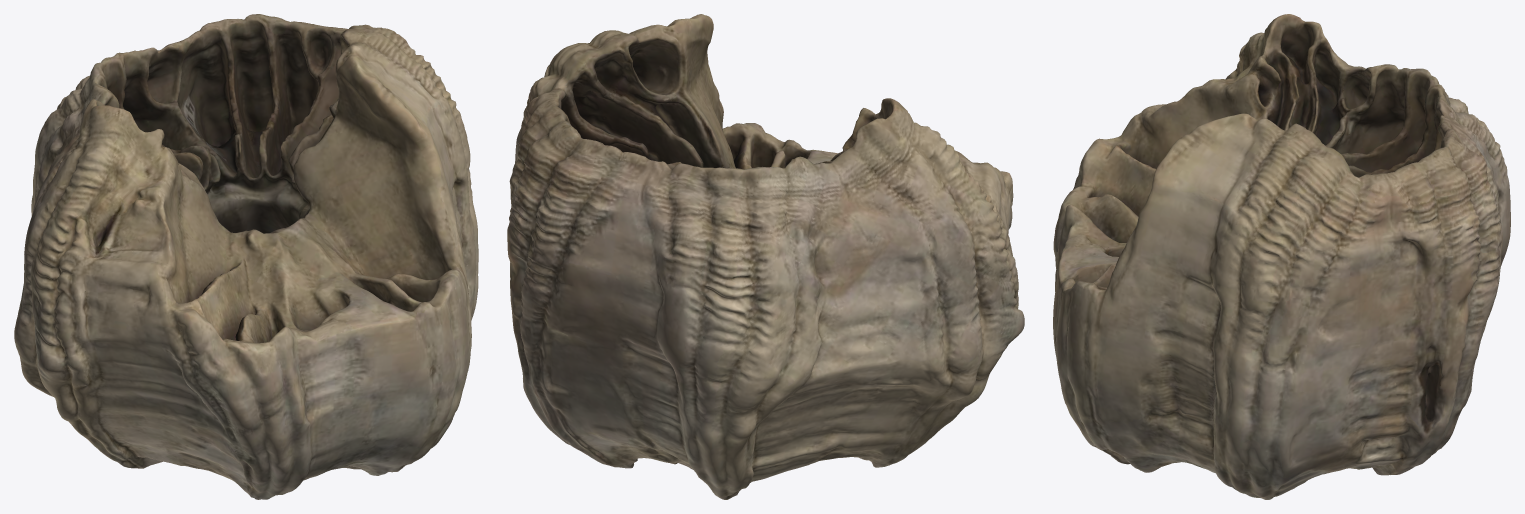
3 views of the same model, side by side, from view 1: azimuth 30°, elevation 25°; view 2: azimuth 150°, elevation 25°; view 3: azimuth 270°, elevation 25° (orthographic). The views are drawn at different scales.
Visible parts, largest first — view 1: Coronula_diadema-unwrapped-webmulti; view 2: Coronula_diadema-unwrapped-webmulti; view 3: Coronula_diadema-unwrapped-webmulti.
Boxes of the visible parts, x1,y1,x2,y2 form: Coronula_diadema-unwrapped-webmulti: (14, 14, 478, 499); Coronula_diadema-unwrapped-webmulti: (507, 14, 1024, 499); Coronula_diadema-unwrapped-webmulti: (1053, 14, 1510, 499).
Bounding box in the file's own units: 4915 × 3937 × 4428.
1 material, 1 textured.
